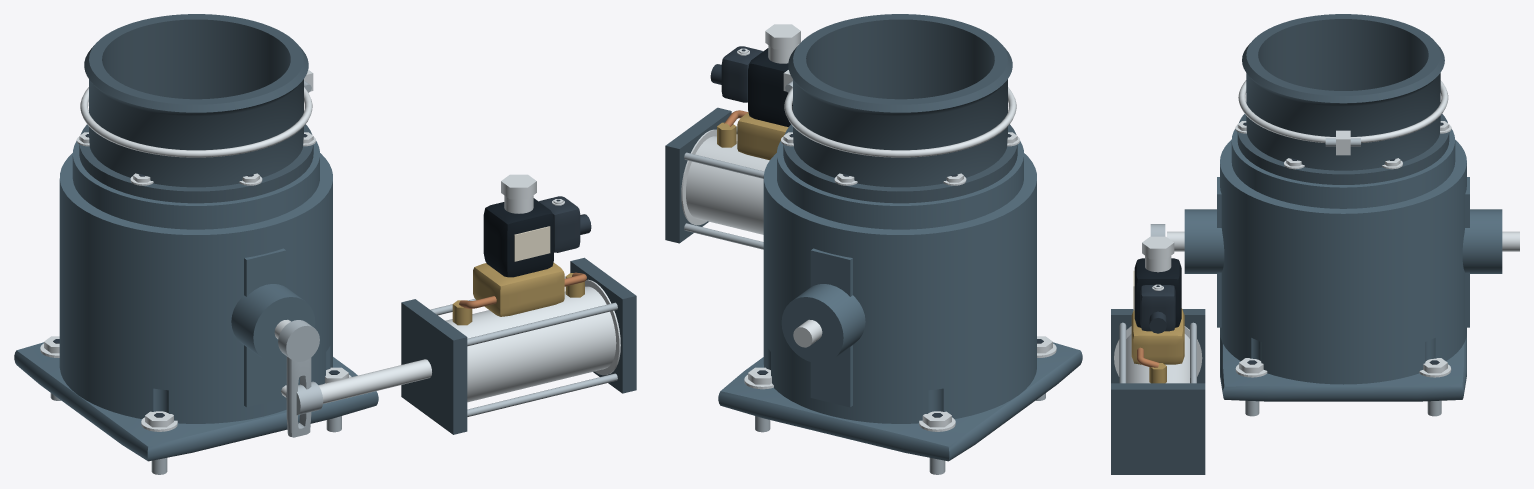
The model's file is inlet.glb.
3 views of the same model, side by side, from view 1: azimuth 30°, elevation 25°; view 2: azimuth 150°, elevation 25°; view 3: azimuth 270°, elevation 25° (orthographic). The views are drawn at different scales.
Visible parts, largest first — view 1: Thân đúc, Cổ hút và vành ống mềm, Xy lanh điều khiển, Thân xy lanh, Cuộn điện từ, Van điện từ nạp tải (H7), Cần piston, Tay đòn có rãnh, Đai siết ống, Thân van hút; view 2: Thân đúc, Cổ hút và vành ống mềm, Thân xy lanh, Cuộn điện từ, Xy lanh điều khiển, Đai siết ống, Thân van hút, Van điện từ nạp tải (H7), Đĩa bướm và trục (minh họa); view 3: Thân đúc, Cổ hút và vành ống mềm, Xy lanh điều khiển, Cuộn điện từ, Đai siết ống, Van điện từ nạp tải (H7), Thân xy lanh, Thân van hút, Đĩa bướm và trục (minh họa).
Boxes of the visible parts, x1,y1,x2,y2 form: Thân đúc: [14, 141, 378, 461]; Cổ hút và vành ống mềm: [76, 14, 315, 203]; Xy lanh điều khiển: [401, 257, 636, 434]; Thân xy lanh: [445, 279, 620, 402]; Cuộn điện từ: [483, 174, 591, 277]; Van điện từ nạp tải (H7): [459, 262, 586, 316]; Cần piston: [281, 359, 431, 415]; Tay đòn có rãnh: [278, 320, 319, 437]; Đai siết ống: [80, 69, 313, 157]; Thân van hút: [40, 336, 351, 474]; Thân đúc: [718, 141, 1082, 461]; Cổ hút và vành ống mềm: [781, 14, 1019, 203]; Thân xy lanh: [681, 129, 769, 234]; Cuộn điện từ: [710, 24, 800, 126]; Xy lanh điều khiển: [665, 107, 764, 249]; Đai siết ống: [783, 70, 1016, 157]; Thân van hút: [744, 336, 1056, 474]; Van điện từ nạp tải (H7): [724, 110, 788, 160]; Đĩa bướm và trục (minh họa): [793, 319, 822, 347]; Thân đúc: [1184, 129, 1502, 401]; Cổ hút và vành ống mềm: [1235, 14, 1451, 184]; Xy lanh điều khiển: [1111, 309, 1205, 474]; Cuộn điện từ: [1133, 236, 1181, 333]; Đai siết ống: [1238, 80, 1448, 155]; Van điện từ nạp tải (H7): [1131, 308, 1184, 367]; Thân xy lanh: [1114, 326, 1202, 383]; Thân van hút: [1235, 358, 1451, 416]; Đĩa bướm và trục (minh họa): [1167, 231, 1519, 251].
Bounding box in the file's own units: 1.52 × 1.2 × 1.39.
